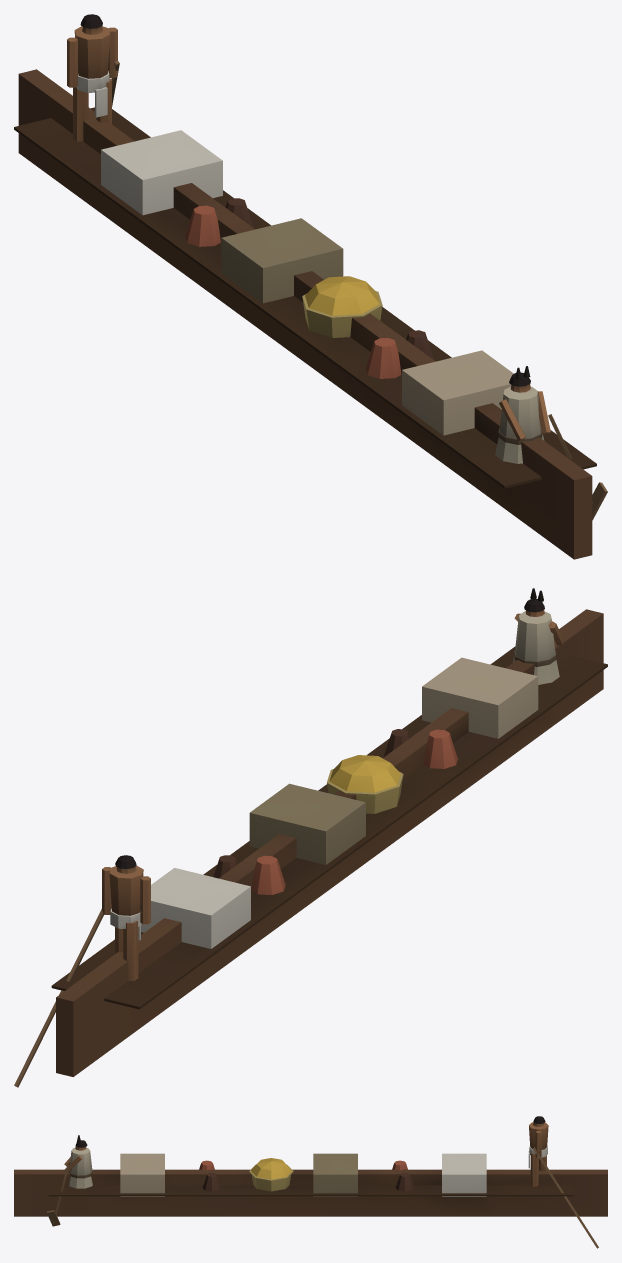
File: boat.glb
The picture shows the model from 3 angles, top to bottom: view 1: azimuth 30°, elevation 25°; view 2: azimuth 150°, elevation 25°; view 3: azimuth 270°, elevation 25°; orthographic projection. The views are drawn at different scales.
Parts seen in each view (by area): view 1: base; view 2: base; view 3: base.
Boxes of the visible parts, x1=… form: base: x1=14, y1=14, x2=607, y2=559; base: x1=14, y1=588, x2=607, y2=1087; base: x1=14, y1=1116, x2=607, y2=1248.
Bounding box in the file's own units: 1.35 × 2.59 × 12.
